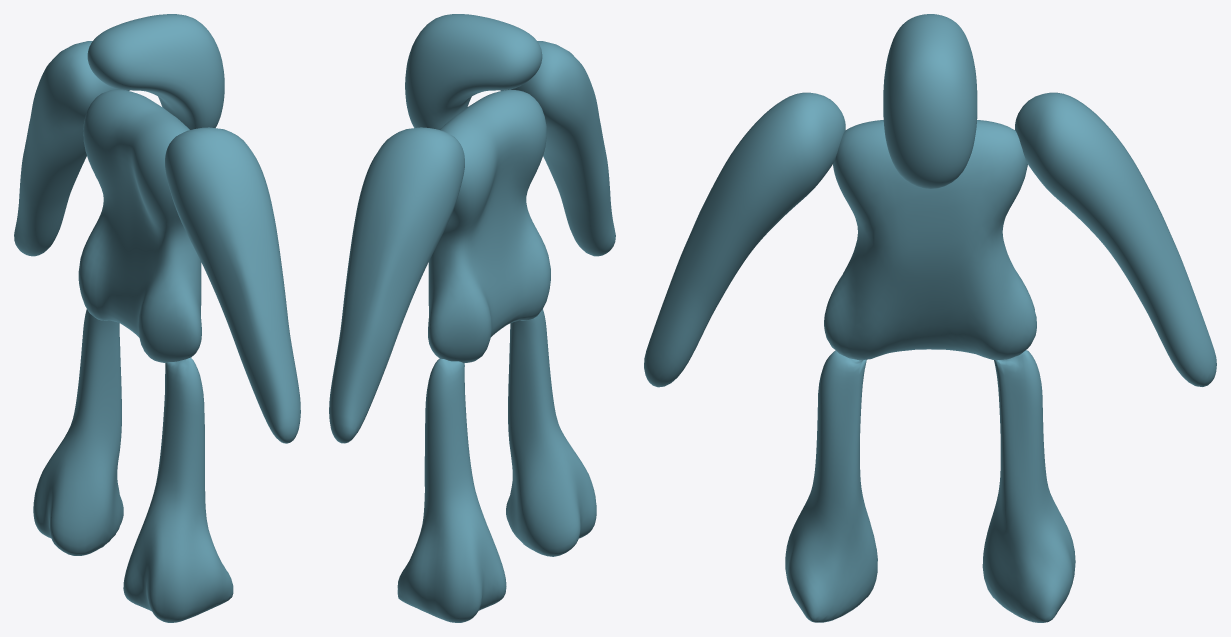
The model's file is Unknown_Player_1.fbx.
The picture shows the model from 3 angles, left to right: view 1: azimuth 30°, elevation 25°; view 2: azimuth 150°, elevation 25°; view 3: azimuth 270°, elevation 25°; orthographic projection. The views are drawn at different scales.
Parts seen in each view (by area): view 1: Body; view 2: Body; view 3: Body.
Part boxes in pixels (x1,y1,x2,y2): Body: (14,14,300,622); Body: (329,14,615,622); Body: (644,14,1216,622).
Bounding box in the file's own units: 451 × 513 × 127.
